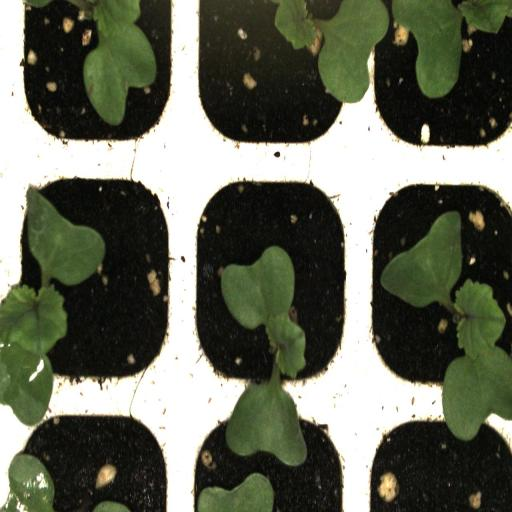Folha: (221, 245, 307, 467), (69, 0, 160, 126), (0, 452, 55, 512)
Germinacao: (180, 166, 362, 406), (0, 167, 178, 403), (362, 166, 512, 406)
